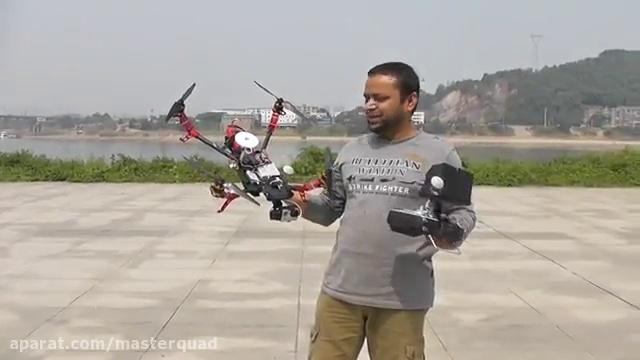drone: (160, 77, 336, 224)
